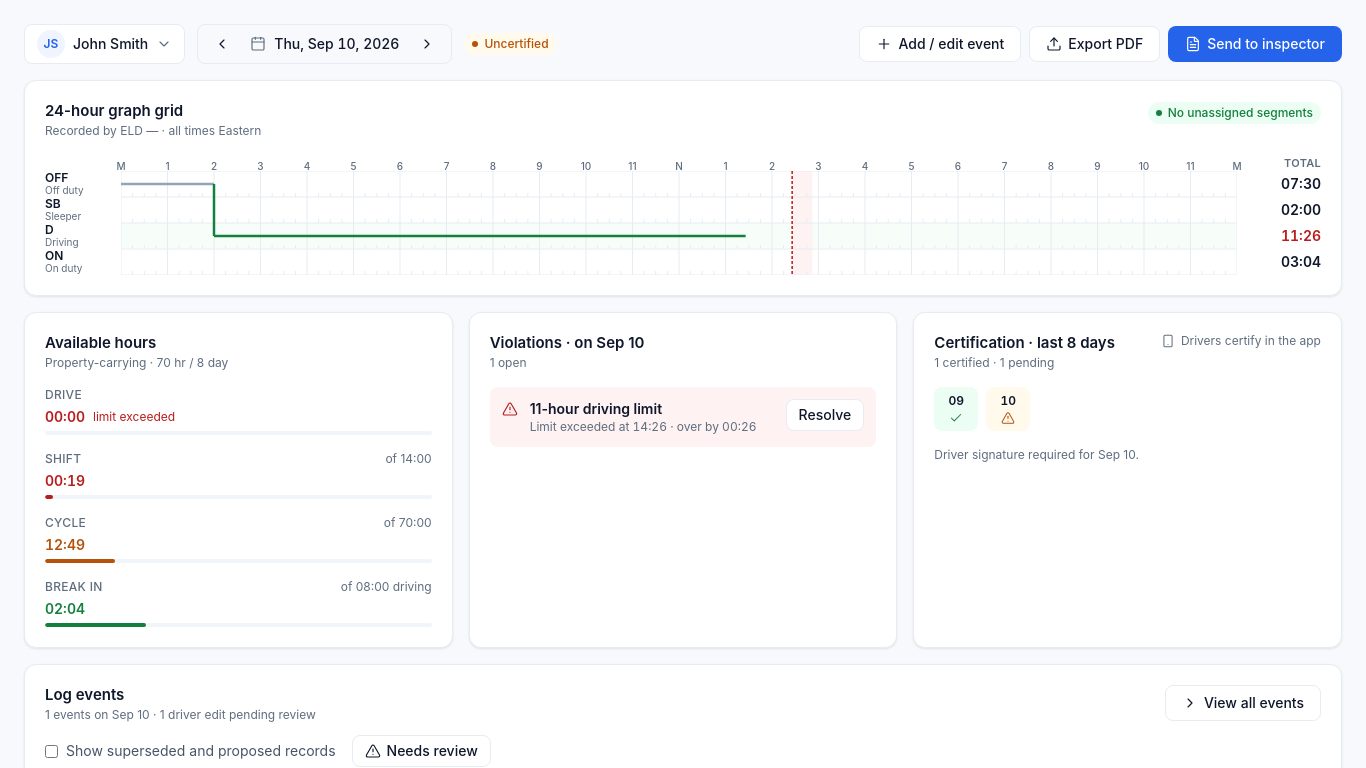
Scenario: 11.11 · Request a log edit › WB-059 · refuses OFF/SB/ON and keeps `Driving` while the interval covers an automatic D record
This screenshot has width=1366, height=768.
Step 1. Click the button "Add / edit event" → {"x": 940, "y": 44}, box [860, 26, 1021, 62]
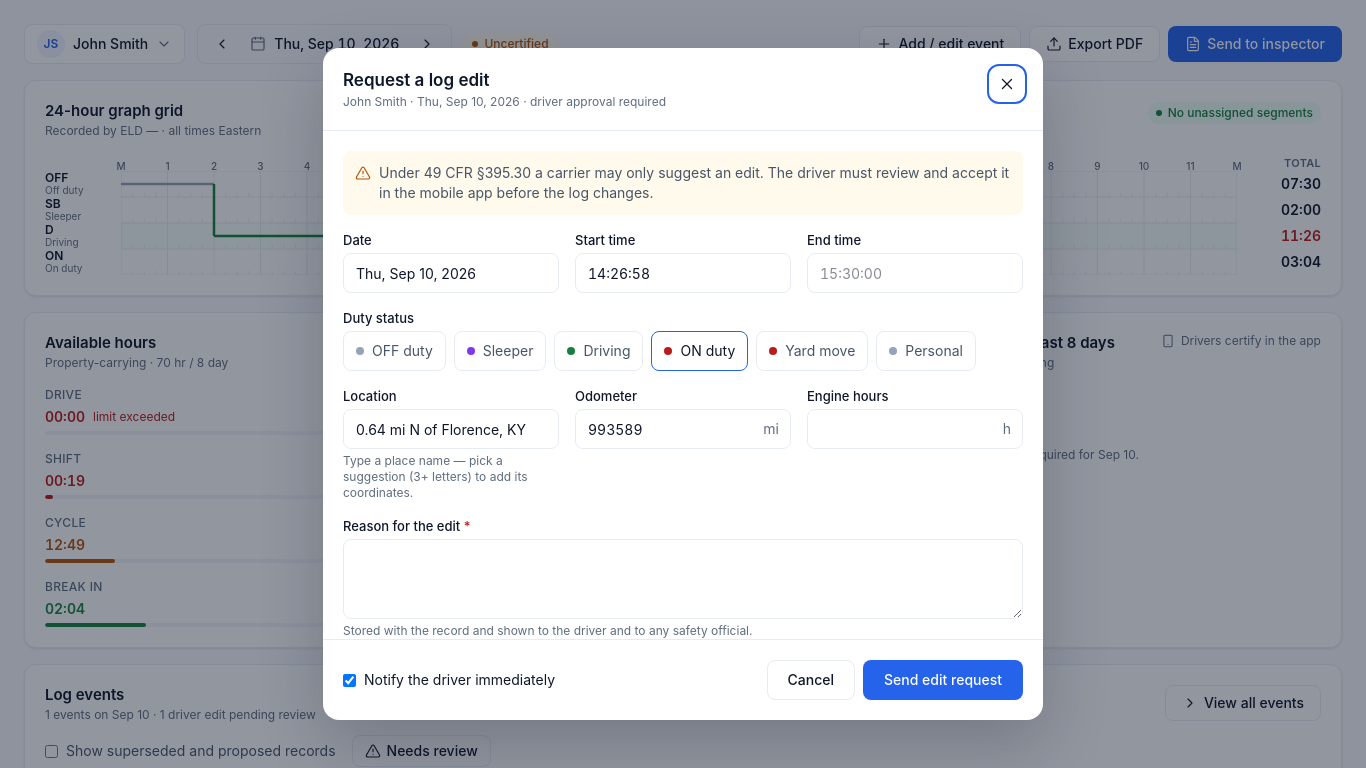
# Into the driving block (06:00Z–17:26Z ⇒ 02:00–13:26 local).
Step 2. Type "10:00:00" into the field with placeholder "14:26:58" → {"x": 683, "y": 273}, box [575, 253, 791, 293]
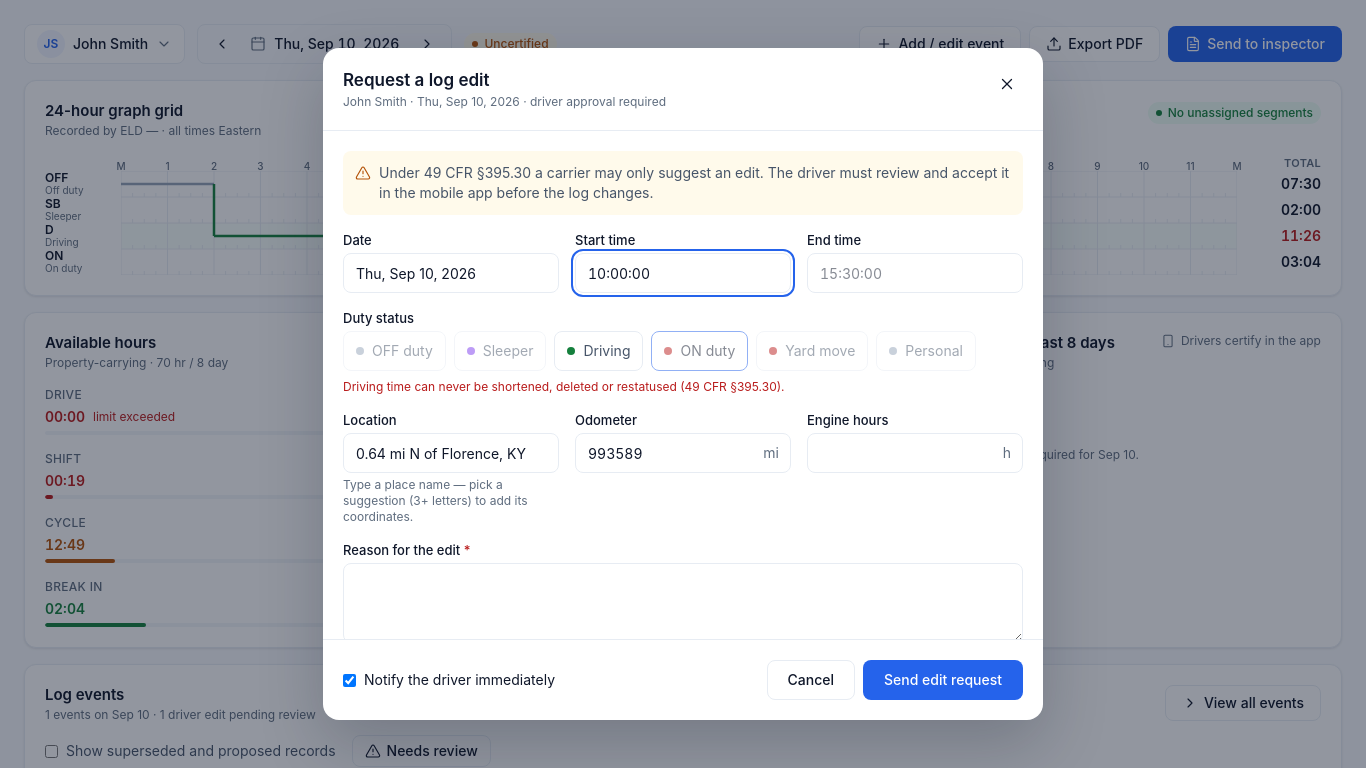
Now the button "OFF duty" is disabled, box [343, 331, 446, 371]
Now the button "Sleeper" is disabled, box [454, 331, 546, 371]
Now the button "ON duty" is disabled, box [652, 331, 748, 371]
